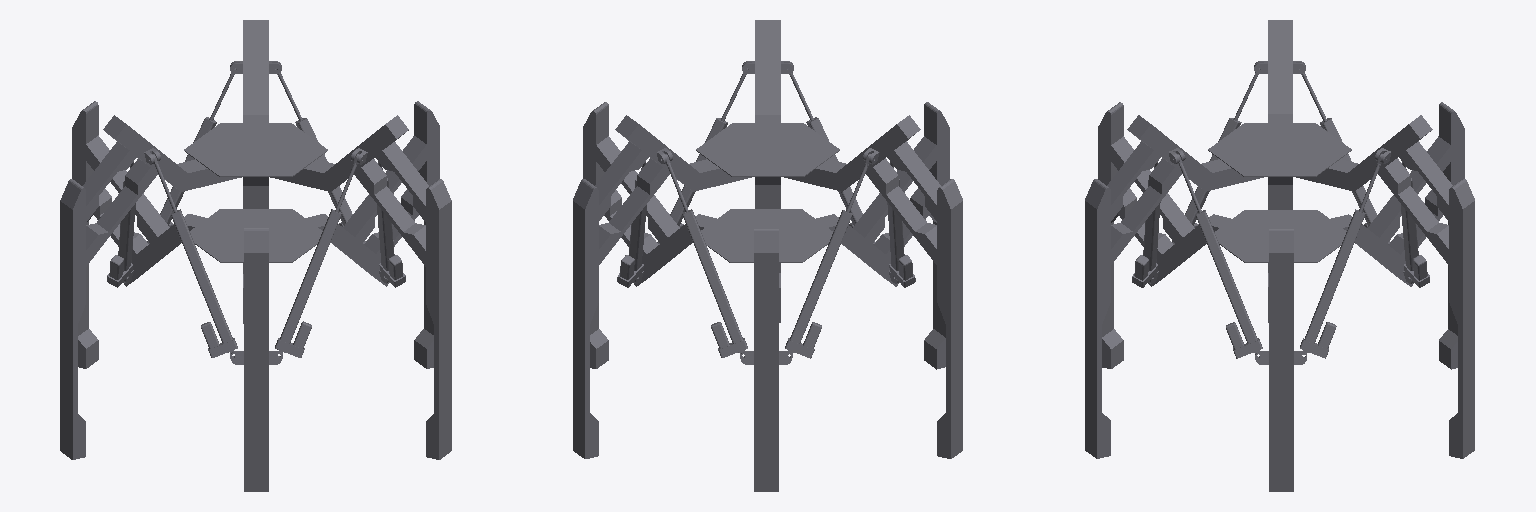
--- What the picture shows (computed from the rendered views, not written in the file) ---
Views: 3 orthographic renders of the robot side by side, from view 1: azimuth 30°, elevation 25°; view 2: azimuth 150°, elevation 25°; view 3: azimuth 270°, elevation 25°.
Robot: Stewart — 26 links, 25 joints (12 revolute, 7 continuous, 6 prismatic); root link Lower; default pose: every joint at zero.
Links seen in each view (by area): view 1: Upper, Lower, V6, V5, V4, V1, V2, V3; view 2: Upper, Lower, V3, V4, V5, V2, V1, V6; view 3: Upper, Lower, V1, V2, V6, V3, V4, V5.
Boxes of the visible links, <box> form: Upper: <box>60,20,451,459</box>; Lower: <box>72,101,439,491</box>; V6: <box>275,209,341,357</box>; V5: <box>171,209,237,357</box>; V4: <box>107,179,135,287</box>; V1: <box>377,178,405,287</box>; V2: <box>295,118,365,243</box>; V3: <box>147,117,216,243</box>; Upper: <box>573,20,962,458</box>; Lower: <box>583,102,949,491</box>; V3: <box>682,209,747,357</box>; V4: <box>785,210,852,358</box>; V5: <box>887,179,915,287</box>; V2: <box>617,178,646,287</box>; V1: <box>657,118,727,244</box>; V6: <box>806,117,875,244</box>; Upper: <box>1085,20,1474,458</box>; Lower: <box>1098,102,1464,491</box>; V1: <box>1195,210,1262,358</box>; V2: <box>1300,209,1365,358</box>; V6: <box>1132,179,1160,287</box>; V3: <box>1401,178,1429,287</box>; V4: <box>1320,118,1389,244</box>; V5: <box>1172,118,1241,244</box>.
Size in the robot's own frame: 1.36 by 1.25 by 1.14 metres.
Meshes: 26 distinct files referenced, 26 mesh visuals loaded (26 binary STL).

robot.urdf — Stewart:
<?xml version="1.0" encoding="utf-8"?>
<!-- This URDF was automatically created by SolidWorks to URDF Exporter! Originally created by Stephen Brawner ([email redacted]) 
     Commit Version: 1.6.0-4-g7f85cfe  Build Version: 1.6.7995.38578
     For more information, please see http://wiki.ros.org/sw_urdf_exporter -->
<robot
  name="Stewart">
  <link
    name="Lower">
    <inertial>
      <origin
        xyz="-0.010389 -0.15074 -0.22968"
        rpy="0 0 0" />
      <mass
        value="19.55" />
      <inertia
        ixx="2.9384"
        ixy="2.7078E-11"
        ixz="6.393E-11"
        iyy="2.9384"
        iyz="9.1515E-11"
        izz="4.5968" />
    </inertial>
    <visual>
      <origin
        xyz="0 0 0"
        rpy="0 0 0" />
      <geometry>
        <mesh
          filename="package://Stewart/meshes/Lower.STL" />
      </geometry>
      <material
        name="">
        <color
          rgba="0.49412 0.49412 0.52549 1" />
      </material>
    </visual>
    <collision>
      <origin
        xyz="0 0 0"
        rpy="0 0 0" />
      <geometry>
        <mesh
          filename="package://Stewart/meshes/Lower.STL" />
      </geometry>
    </collision>
  </link>
  <link
    name="C1_1">
    <inertial>
      <origin
        xyz="0.13316 -0.072357 -0.012797"
        rpy="0 0 0" />
      <mass
        value="0.039475" />
      <inertia
        ixx="1.0228E-05"
        ixy="-2.0586E-07"
        ixz="-7.6717E-11"
        iyy="1.0698E-05"
        iyz="-1.6758E-10"
        izz="1.064E-05" />
    </inertial>
    <visual>
      <origin
        xyz="0 0 0"
        rpy="0 0 0" />
      <geometry>
        <mesh
          filename="package://Stewart/meshes/C1_1.STL" />
      </geometry>
      <material
        name="">
        <color
          rgba="0.49412 0.49412 0.52549 1" />
      </material>
    </visual>
    <collision>
      <origin
        xyz="0 0 0"
        rpy="0 0 0" />
      <geometry>
        <mesh
          filename="package://Stewart/meshes/C1_1.STL" />
      </geometry>
    </collision>
  </link>
  <joint
    name="J1_L"
    type="continuous">
    <origin
      xyz="0.40602 -0.075625 -0.31782"
      rpy="1.8677 0 -1.5708" />
    <parent
      link="Lower" />
    <child
      link="C1_1" />
    <axis
      xyz="-1 0 0" />
  </joint>
  <link
    name="V1">
    <inertial>
      <origin
        xyz="0.16591 0.14292 0.011473"
        rpy="0 0 0" />
      <mass
        value="0.66993" />
      <inertia
        ixx="0.00041123"
        ixy="0.00096455"
        ixz="1.2065E-15"
        iyy="0.014836"
        iyz="7.9364E-17"
        izz="0.015086" />
    </inertial>
    <visual>
      <origin
        xyz="0 0 0"
        rpy="0 0 0" />
      <geometry>
        <mesh
          filename="package://Stewart/meshes/V1.STL" />
      </geometry>
      <material
        name="">
        <color
          rgba="0.49412 0.49412 0.52549 1" />
      </material>
    </visual>
    <collision>
      <origin
        xyz="0 0 0"
        rpy="0 0 0" />
      <geometry>
        <mesh
          filename="package://Stewart/meshes/V1.STL" />
      </geometry>
    </collision>
  </link>
  <joint
    name="J1_1"
    type="revolute">
    <origin
      xyz="0.038976 0.019698 -0.0013241"
      rpy="3.1416 0 1.1891" />
    <parent
      link="C1_1" />
    <child
      link="V1" />
    <axis
      xyz="0 0 -1" />
    <limit
      lower="-1.57"
      upper="1.57"
      effort="100"
      velocity="100" />
  </joint>
  <link
    name="P1">
    <inertial>
      <origin
        xyz="-0.09737 -0.097635 0.13488"
        rpy="0 0 0" />
      <mass
        value="0.054892" />
      <inertia
        ixx="1.0485E-06"
        ixy="-1.5892E-10"
        ixz="-2.5525E-09"
        iyy="0.0010739"
        iyz="-1.4724E-12"
        izz="0.0010739" />
    </inertial>
    <visual>
      <origin
        xyz="0 0 0"
        rpy="0 0 0" />
      <geometry>
        <mesh
          filename="package://Stewart/meshes/P1.STL" />
      </geometry>
      <material
        name="">
        <color
          rgba="0.49412 0.49412 0.52549 1" />
      </material>
    </visual>
    <collision>
      <origin
        xyz="0 0 0"
        rpy="0 0 0" />
      <geometry>
        <mesh
          filename="package://Stewart/meshes/P1.STL" />
      </geometry>
    </collision>
  </link>
  <joint
    name="Cy1"
    type="prismatic">
    <origin
      xyz="0.5203 -0.011845 0.094844"
      rpy="-2.7218 0 0" />
    <parent
      link="V1" />
    <child
      link="P1" />
    <axis
      xyz="1 0 0" />
    <limit
      lower="-0.25"
      upper="0.25"
      effort="1000"
      velocity="100" />
  </joint>
  <link
    name="C2_1">
    <inertial>
      <origin
        xyz="-0.09765 0.16784 -0.084374"
        rpy="0 0 0" />
      <mass
        value="0.034924" />
      <inertia
        ixx="8.0687E-06"
        ixy="7.787E-19"
        ixz="-5.347E-21"
        iyy="9.4811E-06"
        iyz="-1.7047E-20"
        izz="8.4038E-06" />
    </inertial>
    <visual>
      <origin
        xyz="0 0 0"
        rpy="0 0 0" />
      <geometry>
        <mesh
          filename="package://Stewart/meshes/C2_1.STL" />
      </geometry>
      <material
        name="">
        <color
          rgba="0.49412 0.49412 0.52549 1" />
      </material>
    </visual>
    <collision>
      <origin
        xyz="0 0 0"
        rpy="0 0 0" />
      <geometry>
        <mesh
          filename="package://Stewart/meshes/C2_1.STL" />
      </geometry>
    </collision>
  </link>
  <joint
    name="J2_1"
    type="revolute">
    <origin
      xyz="0.24741 -0.013261 -0.01842"
      rpy="1.5708 1.1358 3.1416" />
    <parent
      link="P1" />
    <child
      link="C2_1" />
    <axis
      xyz="0 0 -1" />
    <limit
      lower="-1.57"
      upper="1.57"
      effort="100"
      velocity="100" />
  </joint>
  <link
    name="Upper">
    <inertial>
      <origin
        xyz="-0.081611 -0.10844 -0.35699"
        rpy="0 0 0" />
      <mass
        value="21.508" />
      <inertia
        ixx="4.6524"
        ixy="-0.00019502"
        ixz="-0.00014635"
        iyy="4.6523"
        iyz="-0.00019478"
        izz="5.9442" />
    </inertial>
    <visual>
      <origin
        xyz="0 0 0"
        rpy="0 0 0" />
      <geometry>
        <mesh
          filename="package://Stewart/meshes/Upper.STL" />
      </geometry>
      <material
        name="">
        <color
          rgba="0.49412 0.49412 0.52549 1" />
      </material>
    </visual>
    <collision>
      <origin
        xyz="0 0 0"
        rpy="0 0 0" />
      <geometry>
        <mesh
          filename="package://Stewart/meshes/Upper.STL" />
      </geometry>
    </collision>
  </link>
  <joint
    name="J1_U"
    type="continuous">
    <origin
      xyz="-0.031108 0.15944 0.39527"
      rpy="1.3323 0.51126 -0.11838" />
    <parent
      link="C2_1" />
    <child
      link="Upper" />
    <axis
      xyz="-0.86603 -0.5 0" />
  </joint>
  <link
    name="C1_2">
    <inertial>
      <origin
        xyz="-0.096319 -0.07985 0.0048174"
        rpy="0 0 0" />
      <mass
        value="0.039475" />
      <inertia
        ixx="1.0228E-05"
        ixy="-2.0589E-07"
        ixz="-7.0825E-11"
        iyy="1.0698E-05"
        iyz="-1.6668E-10"
        izz="1.064E-05" />
    </inertial>
    <visual>
      <origin
        xyz="0 0 0"
        rpy="0 0 0" />
      <geometry>
        <mesh
          filename="package://Stewart/meshes/C1_2.STL" />
      </geometry>
      <material
        name="">
        <color
          rgba="0.49412 0.49412 0.52549 1" />
      </material>
    </visual>
    <collision>
      <origin
        xyz="0 0 0"
        rpy="0 0 0" />
      <geometry>
        <mesh
          filename="package://Stewart/meshes/C1_2.STL" />
      </geometry>
    </collision>
  </link>
  <joint
    name="J2_L"
    type="continuous">
    <origin
      xyz="0.41146 0.0036222 -0.30832"
      rpy="1.2738 0 1.5708" />
    <parent
      link="Lower" />
    <child
      link="C1_2" />
    <axis
      xyz="1 0 0" />
  </joint>
  <link
    name="V2">
    <inertial>
      <origin
        xyz="0.069169 -0.063387 0.0025012"
        rpy="0 0 0" />
      <mass
        value="0.66993" />
      <inertia
        ixx="0.00041123"
        ixy="0.00096455"
        ixz="1.927E-16"
        iyy="0.014836"
        iyz="2.1142E-17"
        izz="0.015086" />
    </inertial>
    <visual>
      <origin
        xyz="0 0 0"
        rpy="0 0 0" />
      <geometry>
        <mesh
          filename="package://Stewart/meshes/V2.STL" />
      </geometry>
      <material
        name="">
        <color
          rgba="0.49412 0.49412 0.52549 1" />
      </material>
    </visual>
    <collision>
      <origin
        xyz="0 0 0"
        rpy="0 0 0" />
      <geometry>
        <mesh
          filename="package://Stewart/meshes/V2.STL" />
      </geometry>
    </collision>
  </link>
  <joint
    name="J1_2"
    type="revolute">
    <origin
      xyz="0.036023 0.026319 0.0073184"
      rpy="-3.1416 0 1.1991" />
    <parent
      link="C1_2" />
    <child
      link="V2" />
    <axis
      xyz="0 0 -1" />
    <limit
      lower="-1.57"
      upper="1.57"
      effort="100"
      velocity="100" />
  </joint>
  <link
    name="P2">
    <inertial>
      <origin
        xyz="-0.23137 0.068491 -0.081051"
        rpy="0 0 0" />
      <mass
        value="0.054892" />
      <inertia
        ixx="1.0485E-06"
        ixy="1.1273E-10"
        ixz="2.5778E-09"
        iyy="0.0010739"
        iyz="-1.1562E-12"
        izz="0.0010739" />
    </inertial>
    <visual>
      <origin
        xyz="0 0 0"
        rpy="0 0 0" />
      <geometry>
        <mesh
          filename="package://Stewart/meshes/P2.STL" />
      </geometry>
      <material
        name="">
        <color
          rgba="0.49412 0.49412 0.52549 1" />
      </material>
    </visual>
    <collision>
      <origin
        xyz="0 0 0"
        rpy="0 0 0" />
      <geometry>
        <mesh
          filename="package://Stewart/meshes/P2.STL" />
      </geometry>
    </collision>
  </link>
  <joint
    name="Cy2"
    type="prismatic">
    <origin
      xyz="0.55483 -0.04494 -0.099551"
      rpy="2.7176 0 0" />
    <parent
      link="V2" />
    <child
      link="P2" />
    <axis
      xyz="1 0 0" />
    <limit
      lower="-0.25"
      upper="0.25"
      effort="1000"
      velocity="100" />
  </joint>
  <link
    name="C2_2">
    <inertial>
      <origin
        xyz="0.0019344 0.27073 -0.06849"
        rpy="0 0 0" />
      <mass
        value="0.034924" />
      <inertia
        ixx="8.0687E-06"
        ixy="8.2002E-19"
        ixz="-5.4031E-21"
        iyy="9.4811E-06"
        iyz="3.3881E-21"
        izz="8.4038E-06" />
    </inertial>
    <visual>
      <origin
        xyz="0 0 0"
        rpy="0 0 0" />
      <geometry>
        <mesh
          filename="package://Stewart/meshes/C2_2.STL" />
      </geometry>
      <material
        name="">
        <color
          rgba="0.49412 0.49412 0.52549 1" />
      </material>
    </visual>
    <collision>
      <origin
        xyz="0 0 0"
        rpy="0 0 0" />
      <geometry>
        <mesh
          filename="package://Stewart/meshes/C2_2.STL" />
      </geometry>
    </collision>
  </link>
  <joint
    name="J2_2"
    type="revolute">
    <origin
      xyz="0.24912 0 0.024272"
      rpy="-1.5708 -1.1399 -3.1416" />
    <parent
      link="P2" />
    <child
      link="C2_2" />
    <axis
      xyz="0 0 -1" />
    <limit
      lower="-1.57"
      upper="1.57"
      effort="100"
      velocity="100" />
  </joint>
  <link
    name="C1_3">
    <inertial>
      <origin
        xyz="-0.060265 -0.20142 0.18103"
        rpy="0 0 0" />
      <mass
        value="0.039475" />
      <inertia
        ixx="1.0228E-05"
        ixy="-2.0589E-07"
        ixz="-7.1776E-11"
        iyy="1.0698E-05"
        iyz="-1.6867E-10"
        izz="1.064E-05" />
    </inertial>
    <visual>
      <origin
        xyz="0 0 0"
        rpy="0 0 0" />
      <geometry>
        <mesh
          filename="package://Stewart/meshes/C1_3.STL" />
      </geometry>
      <material
        name="">
        <color
          rgba="0.49412 0.49412 0.52549 1" />
      </material>
    </visual>
    <collision>
      <origin
        xyz="0 0 0"
        rpy="0 0 0" />
      <geometry>
        <mesh
          filename="package://Stewart/meshes/C1_3.STL" />
      </geometry>
    </collision>
  </link>
  <joint
    name="J3_L"
    type="continuous">
    <origin
      xyz="-0.19038 0.39762 -0.13811"
      rpy="1.8641 0 0.5236" />
    <parent
      link="Lower" />
    <child
      link="C1_3" />
    <axis
      xyz="-1 0 0" />
  </joint>
  <link
    name="V3">
    <inertial>
      <origin
        xyz="-0.026229 0.008451 -0.1767"
        rpy="0 0 0" />
      <mass
        value="0.66993" />
      <inertia
        ixx="0.00041123"
        ixy="0.00096455"
        ixz="-1.9664E-16"
        iyy="0.014836"
        iyz="-2.3094E-17"
        izz="0.015086" />
    </inertial>
    <visual>
      <origin
        xyz="0 0 0"
        rpy="0 0 0" />
      <geometry>
        <mesh
          filename="package://Stewart/meshes/V3.STL" />
      </geometry>
      <material
        name="">
        <color
          rgba="0.49412 0.49412 0.52549 1" />
      </material>
    </visual>
    <collision>
      <origin
        xyz="0 0 0"
        rpy="0 0 0" />
      <geometry>
        <mesh
          filename="package://Stewart/meshes/V3.STL" />
      </geometry>
    </collision>
  </link>
  <joint
    name="J1_3"
    type="revolute">
    <origin
      xyz="0.039457 0.019856 0.0043363"
      rpy="-3.1416 0 1.2007" />
    <parent
      link="C1_3" />
    <child
      link="V3" />
    <axis
      xyz="0 0 -1" />
    <limit
      lower="-1.57"
      upper="1.57"
      effort="100"
      velocity="100" />
  </joint>
  <link
    name="P3">
    <inertial>
      <origin
        xyz="-0.24186 0.070679 0.1186"
        rpy="0 0 0" />
      <mass
        value="0.054892" />
      <inertia
        ixx="1.0485E-06"
        ixy="-1.1739E-10"
        ixz="-2.5902E-09"
        iyy="0.0010739"
        iyz="-1.3041E-12"
        izz="0.0010739" />
    </inertial>
    <visual>
      <origin
        xyz="0 0 0"
        rpy="0 0 0" />
      <geometry>
        <mesh
          filename="package://Stewart/meshes/P3.STL" />
      </geometry>
      <material
        name="">
        <color
          rgba="0.49412 0.49412 0.52549 1" />
      </material>
    </visual>
    <collision>
      <origin
        xyz="0 0 0"
        rpy="0 0 0" />
      <geometry>
        <mesh
          filename="package://Stewart/meshes/P3.STL" />
      </geometry>
    </collision>
  </link>
  <joint
    name="Cy3"
    type="prismatic">
    <origin
      xyz="0.46873 0.01326 -0.0395"
      rpy="-2.7162 0 0" />
    <parent
      link="V3" />
    <child
      link="P3" />
    <axis
      xyz="1 0 0" />
    <limit
      lower="-0.25"
      upper="0.25"
      effort="1000"
      velocity="100" />
  </joint>
  <link
    name="C2_3">
    <inertial>
      <origin
        xyz="0.03486 0.27073 0.068496"
        rpy="0 0 0" />
      <mass
        value="0.034924" />
      <inertia
        ixx="8.0687E-06"
        ixy="8.2091E-19"
        ixz="1.7658E-21"
        iyy="9.4811E-06"
        iyz="-5.294E-22"
        izz="8.4038E-06" />
    </inertial>
    <visual>
      <origin
        xyz="0 0 0"
        rpy="0 0 0" />
      <geometry>
        <mesh
          filename="package://Stewart/meshes/C2_3.STL" />
      </geometry>
      <material
        name="">
        <color
          rgba="0.49412 0.49412 0.52549 1" />
      </material>
    </visual>
    <collision>
      <origin
        xyz="0 0 0"
        rpy="0 0 0" />
      <geometry>
        <mesh
          filename="package://Stewart/meshes/C2_3.STL" />
      </geometry>
    </collision>
  </link>
  <joint
    name="J2_3"
    type="revolute">
    <origin
      xyz="0.25266 0.0021823 0.044181"
      rpy="1.5708 1.1437 3.1416" />
    <parent
      link="P3" />
    <child
      link="C2_3" />
    <axis
      xyz="0 0 -1" />
    <limit
      lower="-1.57"
      upper="1.57"
      effort="100"
      velocity="100" />
  </joint>
  <link
    name="C1_4">
    <inertial>
      <origin
        xyz="0.096929 -0.20892 -0.18704"
        rpy="0 0 0" />
      <mass
        value="0.039475" />
      <inertia
        ixx="1.0228E-05"
        ixy="-2.059E-07"
        ixz="-7.3253E-11"
        iyy="1.0698E-05"
        iyz="-1.5704E-10"
        izz="1.064E-05" />
    </inertial>
    <visual>
      <origin
        xyz="0 0 0"
        rpy="0 0 0" />
      <geometry>
        <mesh
          filename="package://Stewart/meshes/C1_4.STL" />
      </geometry>
      <material
        name="">
        <color
          rgba="0.49412 0.49412 0.52549 1" />
      </material>
    </visual>
    <collision>
      <origin
        xyz="0 0 0"
        rpy="0 0 0" />
      <geometry>
        <mesh
          filename="package://Stewart/meshes/C1_4.STL" />
      </geometry>
    </collision>
  </link>
  <joint
    name="J4_L"
    type="continuous">
    <origin
      xyz="-0.26095 0.36102 -0.12919"
      rpy="1.2775 0 -2.618" />
    <parent
      link="Lower" />
    <child
      link="C1_4" />
    <axis
      xyz="1 0 0" />
  </joint>
  <link
    name="V4">
    <inertial>
      <origin
        xyz="0.020742 0.16443 0.1857"
        rpy="0 0 0" />
      <mass
        value="0.66993" />
      <inertia
        ixx="0.00041123"
        ixy="0.00096455"
        ixz="-1.2065E-15"
        iyy="0.014836"
        iyz="-7.8713E-17"
        izz="0.015086" />
    </inertial>
    <visual>
      <origin
        xyz="0 0 0"
        rpy="0 0 0" />
      <geometry>
        <mesh
          filename="package://Stewart/meshes/V4.STL" />
      </geometry>
      <material
        name="">
        <color
          rgba="0.49412 0.49412 0.52549 1" />
      </material>
    </visual>
    <collision>
      <origin
        xyz="0 0 0"
        rpy="0 0 0" />
      <geometry>
        <mesh
          filename="package://Stewart/meshes/V4.STL" />
      </geometry>
    </collision>
  </link>
  <joint
    name="J1_4"
    type="revolute">
    <origin
      xyz="0.037382 0.026037 -0.0013417"
      rpy="3.1416 0 1.1868" />
    <parent
      link="C1_4" />
    <child
      link="V4" />
    <axis
      xyz="0 0 -1" />
    <limit
      lower="-1.57"
      upper="1.57"
      effort="100"
      velocity="100" />
  </joint>
  <link
    name="P4">
    <inertial>
      <origin
        xyz="-0.097359 -0.09438 -0.18771"
        rpy="0 0 0" />
      <mass
        value="0.054892" />
      <inertia
        ixx="1.0485E-06"
        ixy="6.5629E-11"
        ixz="2.5674E-09"
        iyy="0.0010739"
        iyz="-2.2736E-13"
        izz="0.0010739" />
    </inertial>
    <visual>
      <origin
        xyz="0 0 0"
        rpy="0 0 0" />
      <geometry>
        <mesh
          filename="package://Stewart/meshes/P4.STL" />
      </geometry>
      <material
        name="">
        <color
          rgba="0.49412 0.49412 0.52549 1" />
      </material>
    </visual>
    <collision>
      <origin
        xyz="0 0 0"
        rpy="0 0 0" />
      <geometry>
        <mesh
          filename="package://Stewart/meshes/P4.STL" />
      </geometry>
    </collision>
  </link>
  <joint
    name="Cy4"
    type="prismatic">
    <origin
      xyz="0.37499 -0.0088605 0.052719"
      rpy="2.722 0 0" />
    <parent
      link="V4" />
    <child
      link="P4" />
    <axis
      xyz="1 0 0" />
    <limit
      lower="-0.25"
      upper="0.25"
      effort="1000"
      velocity="100" />
  </joint>
  <link
    name="C2_4">
    <inertial>
      <origin
        xyz="-0.081187 0.16153 0.1129"
        rpy="0 0 0" />
      <mass
        value="0.034924" />
      <inertia
        ixx="8.0687E-06"
        ixy="7.5111E-19"
        ixz="-1.4828E-21"
        iyy="9.4811E-06"
        iyz="1.44E-20"
        izz="8.4038E-06" />
    </inertial>
    <visual>
      <origin
        xyz="0 0 0"
        rpy="0 0 0" />
      <geometry>
        <mesh
          filename="package://Stewart/meshes/C2_4.STL" />
      </geometry>
      <material
        name="">
        <color
          rgba="0.49412 0.49412 0.52549 1" />
      </material>
    </visual>
    <collision>
      <origin
        xyz="0 0 0"
        rpy="0 0 0" />
      <geometry>
        <mesh
          filename="package://Stewart/meshes/C2_4.STL" />
      </geometry>
    </collision>
  </link>
  <joint
    name="J2_4"
    type="revolute">
    <origin
      xyz="0.24893 0.01852 -0.052245"
      rpy="-1.5708 -1.138 3.1416" />
    <parent
      link="P4" />
    <child
      link="C2_4" />
    <axis
      xyz="0 0 -1" />
    <limit
      lower="-1.57"
      upper="1.57"
      effort="100"
      velocity="100" />
  </joint>
  <link
    name="C1_5">
    <inertial>
      <origin
        xyz="-0.092218 -0.19001 -0.05757"
        rpy="0 0 0" />
      <mass
        value="0.039475" />
      <inertia
        ixx="1.0228E-05"
        ixy="-2.059E-07"
        ixz="-1.0659E-10"
        iyy="1.0698E-05"
        iyz="-1.725E-10"
        izz="1.064E-05" />
    </inertial>
    <visual>
      <origin
        xyz="0 0 0"
        rpy="0 0 0" />
      <geometry>
        <mesh
          filename="package://Stewart/meshes/C1_5.STL" />
      </geometry>
      <material
        name="">
        <color
          rgba="0.49412 0.49412 0.52549 1" />
      </material>
    </visual>
    <collision>
      <origin
        xyz="0 0 0"
        rpy="0 0 0" />
      <geometry>
        <mesh
          filename="package://Stewart/meshes/C1_5.STL" />
      </geometry>
    </collision>
  </link>
  <joint
    name="J5_L"
    type="continuous">
    <origin
      xyz="-0.3112 -0.37123 -0.21697"
      rpy="1.8546 0 2.618" />
    <parent
      link="Lower" />
    <child
      link="C1_5" />
    <axis
      xyz="-1 0 0" />
  </joint>
  <link
    name="V5">
    <inertial>
      <origin
        xyz="-0.035895 -0.012891 0.057796"
        rpy="0 0 0" />
      <mass
        value="0.66993" />
      <inertia
        ixx="0.00041123"
        ixy="0.00096455"
        ixz="1.9006E-16"
        iyy="0.014836"
        iyz="1.8648E-17"
        izz="0.015086" />
    </inertial>
    <visual>
      <origin
        xyz="0 0 0"
        rpy="0 0 0" />
      <geometry>
        <mesh
          filename="package://Stewart/meshes/V5.STL" />
      </geometry>
      <material
        name="">
        <color
          rgba="0.49412 0.49412 0.52549 1" />
      </material>
    </visual>
    <collision>
      <origin
        xyz="0 0 0"
        rpy="0 0 0" />
      <geometry>
        <mesh
          filename="package://Stewart/meshes/V5.STL" />
      </geometry>
    </collision>
  </link>
  <joint
    name="J1_5"
    type="revolute">
    <origin
      xyz="0.033005 0.031475 0.00022614"
      rpy="-3.1416 0 1.1908" />
    <parent
      link="C1_5" />
    <child
      link="V5" />
    <axis
      xyz="0 0 -1" />
    <limit
      lower="-1.57"
      upper="1.57"
      effort="100"
      velocity="100" />
  </joint>
  <link
    name="P5">
    <inertial>
      <origin
        xyz="-0.1702 -0.069482 -0.041968"
        rpy="0 0 0" />
      <mass
        value="0.054892" />
      <inertia
        ixx="1.0485E-06"
        ixy="-1.1798E-10"
        ixz="-2.5558E-09"
        iyy="0.0010739"
        iyz="-1.1964E-12"
        izz="0.0010739" />
    </inertial>
    <visual>
      <origin
        xyz="0 0 0"
        rpy="0 0 0" />
      <geometry>
        <mesh
          filename="package://Stewart/meshes/P5.STL" />
      </geometry>
      <material
        name="">
        <color
          rgba="0.49412 0.49412 0.52549 1" />
      </material>
    </visual>
    <collision>
      <origin
        xyz="0 0 0"
        rpy="0 0 0" />
      <geometry>
        <mesh
          filename="package://Stewart/meshes/P5.STL" />
      </geometry>
    </collision>
  </link>
  <joint
    name="Cy5"
    type="prismatic">
    <origin
      xyz="0.38811 -0.069642 -0.0090013"
      rpy="-2.7185 0 0" />
    <parent
      link="V5" />
    <child
      link="P5" />
    <axis
      xyz="1 0 0" />
    <limit
      lower="-0.25"
      upper="0.25"
      effort="1000"
      velocity="100" />
  </joint>
  <link
    name="C2_5">
    <inertial>
      <origin
        xyz="0.11841 0.15336 -0.11139"
        rpy="0 0 0" />
      <mass
        value="0.034924" />
      <inertia
        ixx="8.0687E-06"
        ixy="7.8261E-19"
        ixz="9.6459E-21"
        iyy="9.4811E-06"
        iyz="2.0117E-20"
        izz="8.4038E-06" />
    </inertial>
    <visual>
      <origin
        xyz="0 0 0"
        rpy="0 0 0" />
      <geometry>
        <mesh
          filename="package://Stewart/meshes/C2_5.STL" />
      </geometry>
      <material
        name="">
        <color
          rgba="0.49412 0.49412 0.52549 1" />
      </material>
    </visual>
    <collision>
      <origin
        xyz="0 0 0"
        rpy="0 0 0" />
      <geometry>
        <mesh
          filename="package://Stewart/meshes/C2_5.STL" />
      </geometry>
    </collision>
  </link>
  <joint
    name="J2_5"
    type="revolute">
    <origin
      xyz="0.25191 0.041912 0.0090469"
      rpy="1.5708 1.1477 -3.1416" />
    <parent
      link="P5" />
    <child
      link="C2_5" />
    <axis
      xyz="0 0 -1" />
    <limit
      lower="-1.57"
      upper="1.57"
      effort="100"
      velocity="100" />
  </joint>
  <link
    name="C1_6">
    <inertial>
      <origin
        xyz="0.13057 -0.17111 0.058541"
        rpy="0 0 0" />
      <mass
        value="0.039475" />
      <inertia
        ixx="1.0228E-05"
        ixy="-2.059E-07"
        ixz="-1.0659E-10"
        iyy="1.0698E-05"
        iyz="-1.725E-10"
        izz="1.064E-05" />
    </inertial>
    <visual>
      <origin
        xyz="0 0 0"
        rpy="0 0 0" />
      <geometry>
        <mesh
          filename="package://Stewart/meshes/C1_6.STL" />
      </geometry>
      <material
        name="">
        <color
          rgba="0.49412 0.49412 0.52549 1" />
      </material>
    </visual>
    <collision>
      <origin
        xyz="0 0 0"
        rpy="0 0 0" />
      <geometry>
        <mesh
          filename="package://Stewart/meshes/C1_6.STL" />
      </geometry>
    </collision>
  </link>
  <joint
    name="J6_L"
    type="continuous">
    <origin
      xyz="-0.24606 -0.41387 -0.23539"
      rpy="1.287 0 -0.5236" />
    <parent
      link="Lower" />
    <child
      link="C1_6" />
    <axis
      xyz="1 0 0" />
  </joint>
  <link
    name="V6">
    <inertial>
      <origin
        xyz="0.076471 0.17206 -0.059333"
        rpy="0 0 0" />
      <mass
        value="0.66993" />
      <inertia
        ixx="0.00041123"
        ixy="0.00096455"
        ixz="-1.961E-16"
        iyy="0.014836"
        iyz="-2.06E-17"
        izz="0.015086" />
    </inertial>
    <visual>
      <origin
        xyz="0 0 0"
        rpy="0 0 0" />
      <geometry>
        <mesh
          filename="package://Stewart/meshes/V6.STL" />
      </geometry>
      <material
        name="">
        <color
          rgba="0.49412 0.49412 0.52549 1" />
      </material>
    </visual>
    <collision>
      <origin
        xyz="0 0 0"
        rpy="0 0 0" />
      <geometry>
        <mesh
          filename="package://Stewart/meshes/V6.STL" />
      </geometry>
    </collision>
  </link>
  <joint
    name="J1_6"
    type="revolute">
    <origin
      xyz="0.041675 0.014229 -0.00079182"
      rpy="3.1416 0 1.1947" />
    <parent
      link="C1_6" />
    <child
      link="V6" />
    <axis
      xyz="0 0 -1" />
    <limit
      lower="-1.57"
      upper="1.57"
      effort="100"
      velocity="100" />
  </joint>
  <link
    name="P6">
    <inertial>
      <origin
        xyz="-0.18107 -0.11101 0.024617"
        rpy="0 0 0" />
      <mass
        value="0.054892" />
      <inertia
        ixx="1.0485E-06"
        ixy="1.0433E-10"
        ixz="2.5561E-09"
        iyy="0.0010739"
        iyz="-8.9579E-13"
        izz="0.0010739" />
    </inertial>
    <visual>
      <origin
        xyz="0 0 0"
        rpy="0 0 0" />
      <geometry>
        <mesh
          filename="package://Stewart/meshes/P6.STL" />
      </geometry>
      <material
        name="">
        <color
          rgba="0.49412 0.49412 0.52549 1" />
      </material>
    </visual>
    <collision>
      <origin
        xyz="0 0 0"
        rpy="0 0 0" />
      <geometry>
        <mesh
          filename="package://Stewart/meshes/P6.STL" />
      </geometry>
    </collision>
  </link>
  <joint
    name="Cy6"
    type="prismatic">
    <origin
      xyz="0.51029 0.070425 0.0088417"
      rpy="2.7169 0 0" />
    <parent
      link="V6" />
    <child
      link="P6" />
    <axis
      xyz="1 0 0" />
    <limit
      lower="-0.25"
      upper="0.25"
      effort="1000"
      velocity="100" />
  </joint>
  <link
    name="C2_6">
    <inertial>
      <origin
        xyz="0.13488 0.15967 0.082895"
        rpy="0 0 0" />
      <mass
        value="0.034924" />
      <inertia
        ixx="8.0687E-06"
        ixy="7.7466E-19"
        ixz="-5.2724E-21"
        iyy="9.4811E-06"
        iyz="-2.1917E-20"
        izz="8.4038E-06" />
    </inertial>
    <visual>
      <origin
        xyz="0 0 0"
        rpy="0 0 0" />
      <geometry>
        <mesh
          filename="package://Stewart/meshes/C2_6.STL" />
      </geometry>
      <material
        name="">
        <color
          rgba="0.49412 0.49412 0.52549 1" />
      </material>
    </visual>
    <collision>
      <origin
        xyz="0 0 0"
        rpy="0 0 0" />
      <geometry>
        <mesh
          filename="package://Stewart/meshes/C2_6.STL" />
      </geometry>
    </collision>
  </link>
  <joint
    name="J2_6"
    type="revolute">
    <origin
      xyz="0.25344 -0.028119 -0.039147"
      rpy="-1.5708 -1.1492 -3.1416" />
    <parent
      link="P6" />
    <child
      link="C2_6" />
    <axis
      xyz="0 0 -1" />
    <limit
      lower="-1.57"
      upper="1.57"
      effort="100"
      velocity="100" />
  </joint>
</robot>
